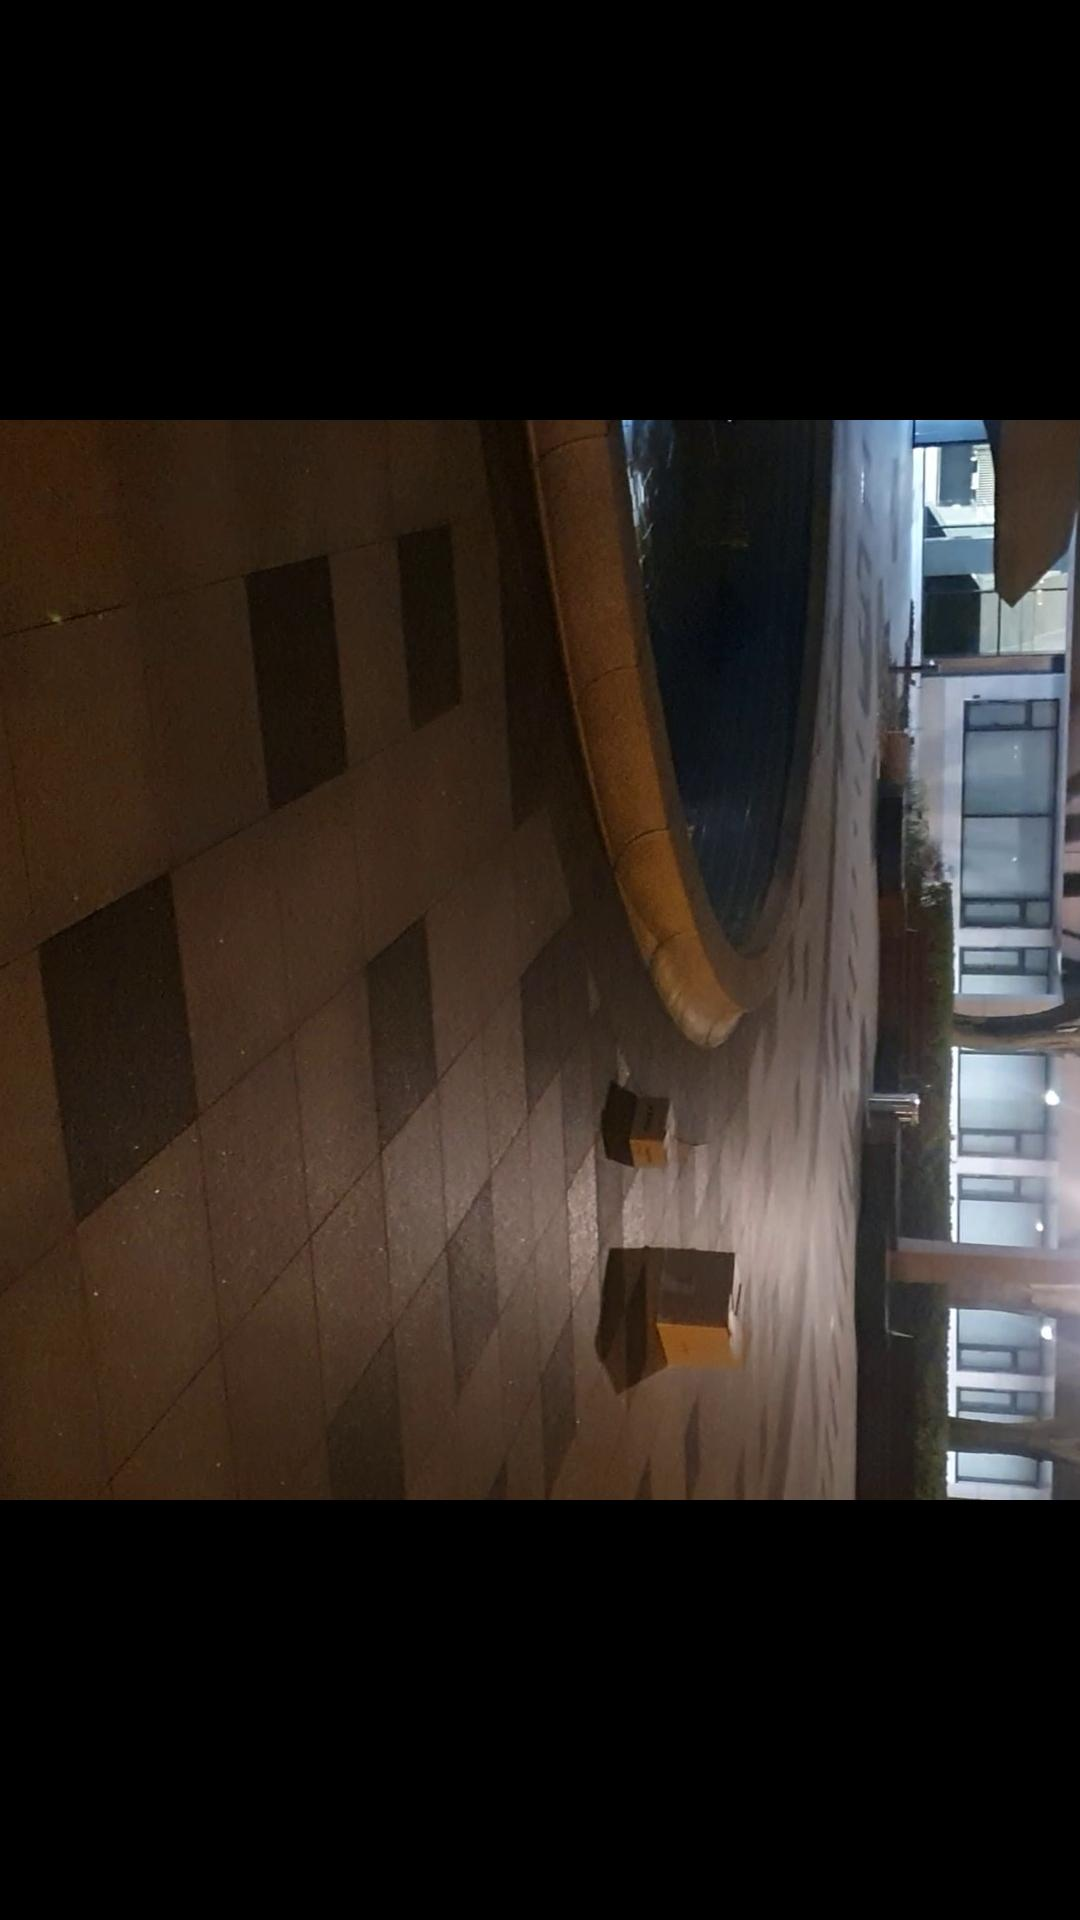Box: (637, 1236, 752, 1367), (625, 1088, 680, 1164)
